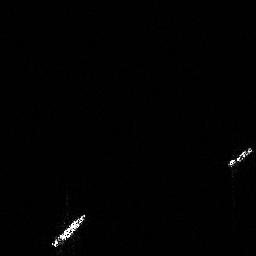ship: (47, 209, 89, 250), (224, 145, 256, 171)
